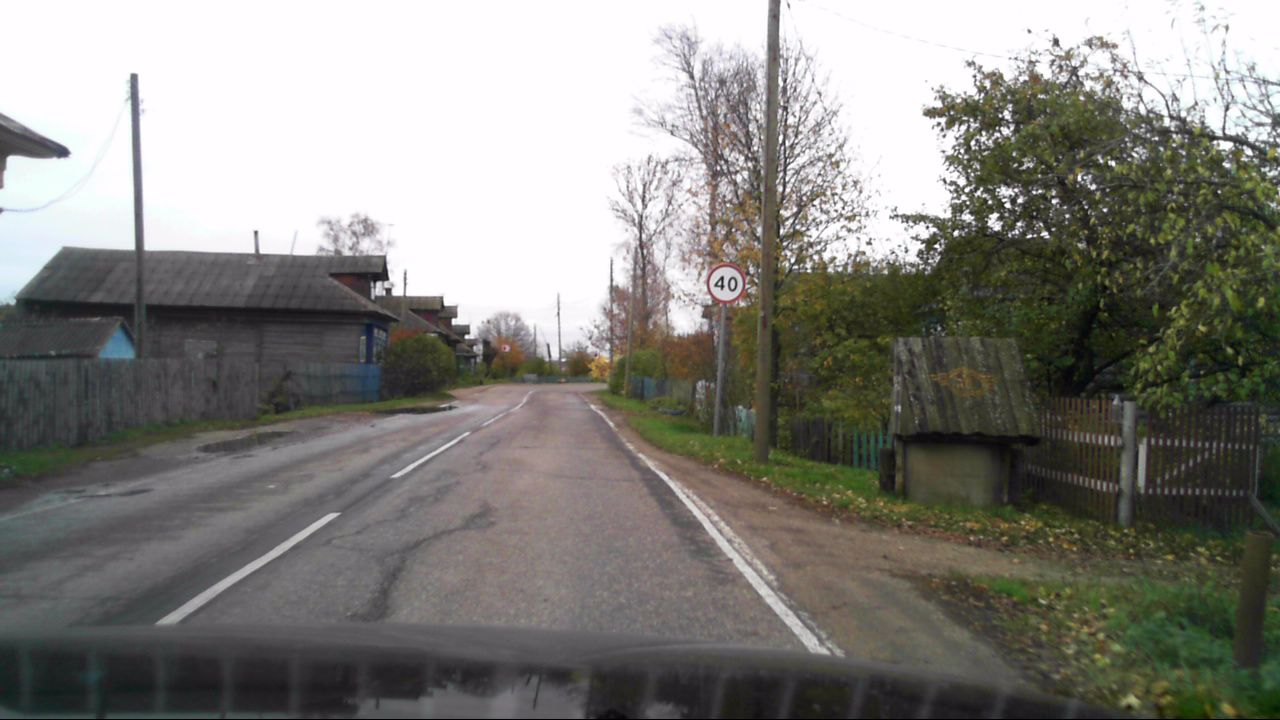speed_warning_40: (705, 262, 747, 303)
